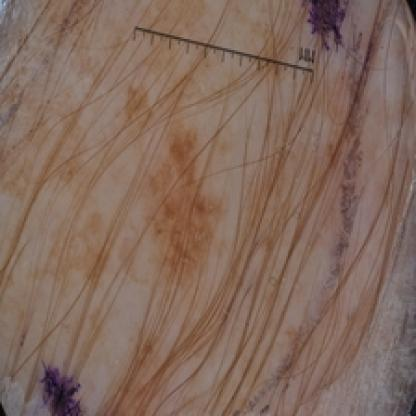Skin_Cancer-Malignant: (150, 126, 226, 288)
